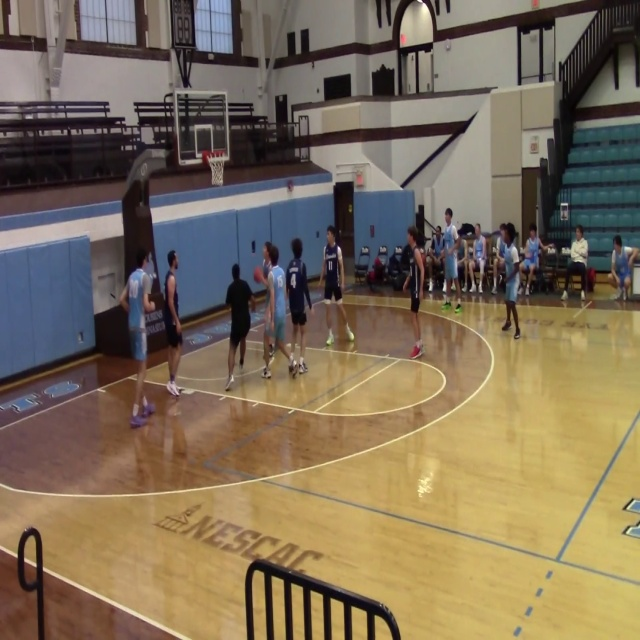Basketball: (253, 266, 263, 283)
